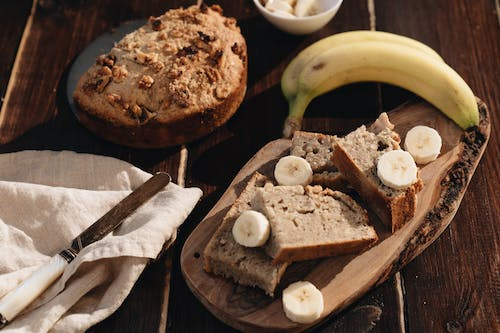knife: (0, 170, 172, 333)
